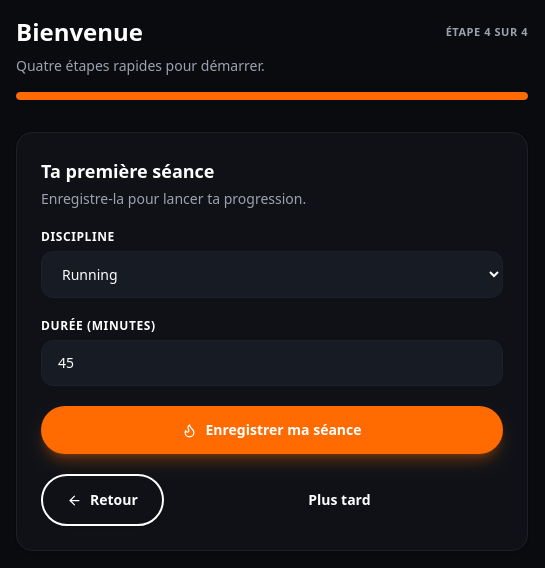
Test: Bienvenue — étape 4 : première séance › la durée est transmise en ENTIER
The width and height of the screenshot is (545, 568).
Replace the text in the number field labelled "Durée (minutes)" with "60" at (272,363), box [41, 340, 503, 386]
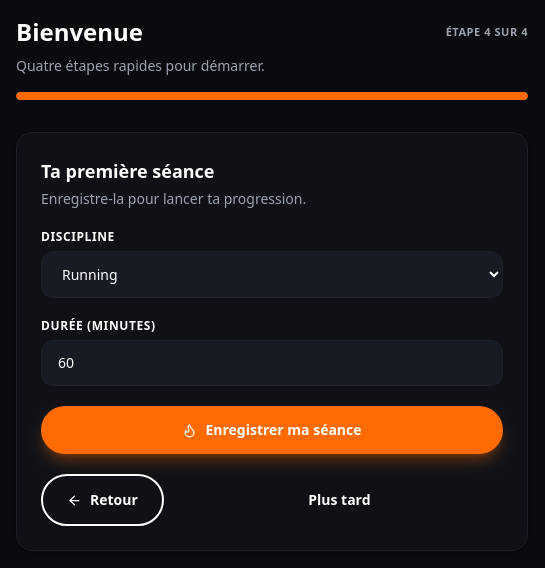
Click the button "Enregistrer ma séance" at (272,430), box [41, 406, 503, 454]
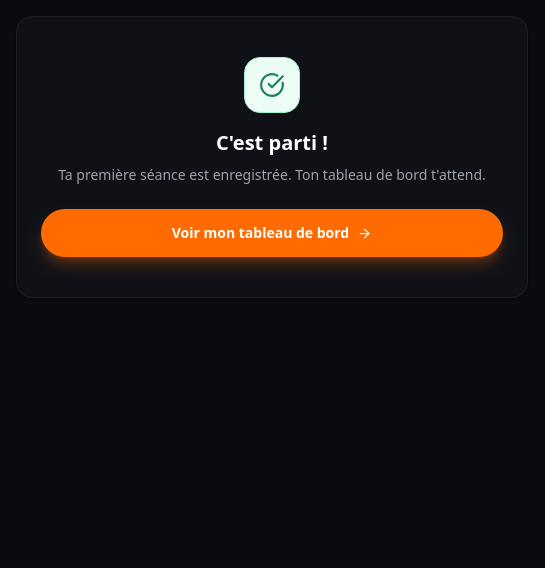
Check: the heading "C'est parti !" is shown, box [216, 129, 328, 156]
